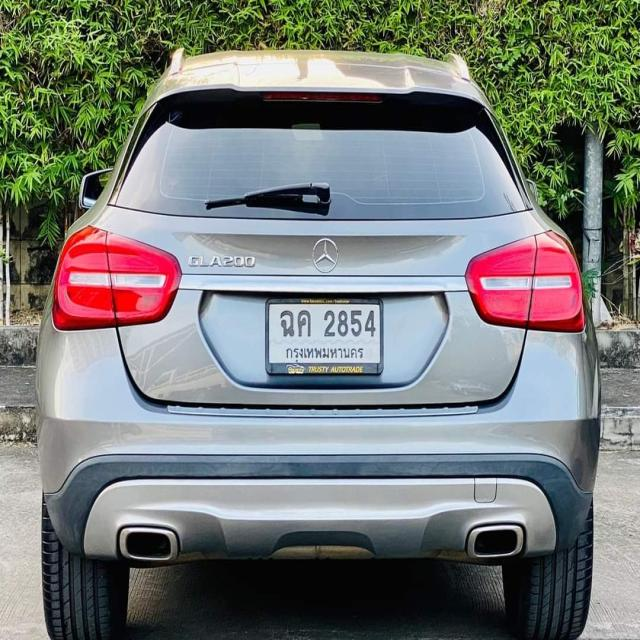license_plate: (264, 294, 386, 382)
